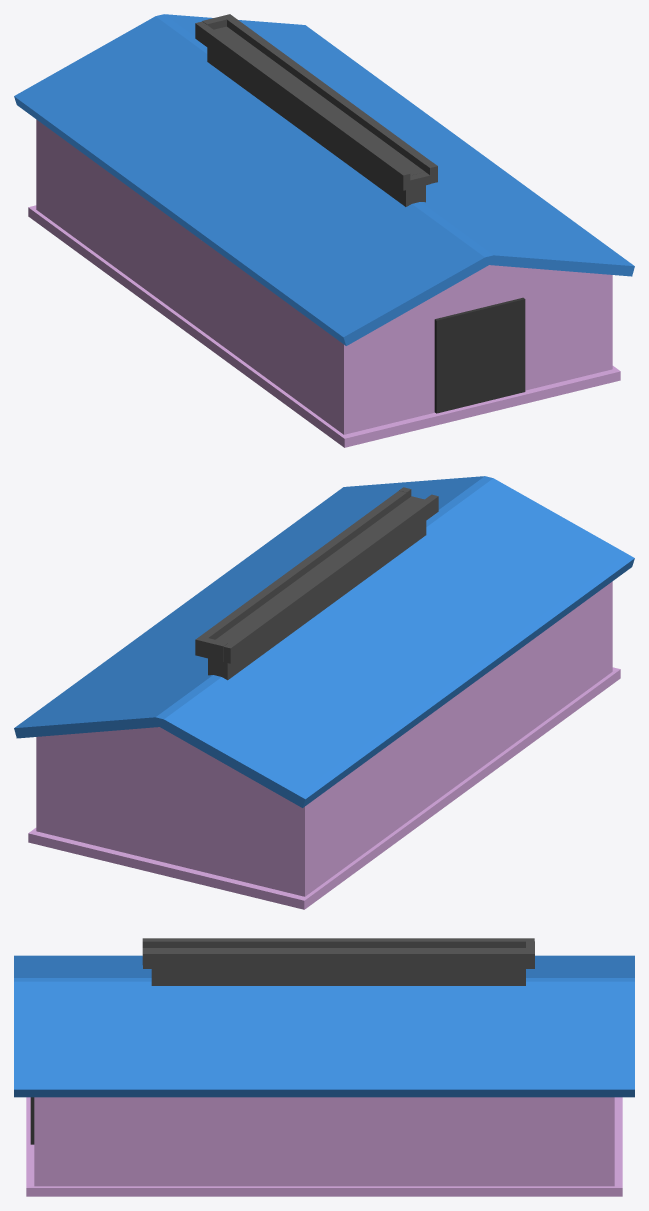
The model's file is factory1.glb.
3 views of the same model, one above another, from view 1: azimuth 30°, elevation 25°; view 2: azimuth 150°, elevation 25°; view 3: azimuth 270°, elevation 25° (orthographic). The views are drawn at different scales.
Visible parts, largest first — view 1: Roof, Куб, Куб.001, Door.001; view 2: Roof, Куб, Куб.001; view 3: Roof, Куб, Куб.001.
Boxes of the visible parts, x1,y1,x2,y2 form: Roof: [14, 14, 634, 345]; Куб: [28, 119, 620, 447]; Куб.001: [195, 14, 437, 206]; Door.001: [434, 297, 525, 413]; Roof: [14, 476, 634, 807]; Куб: [28, 581, 620, 909]; Куб.001: [195, 487, 438, 680]; Roof: [14, 955, 634, 1097]; Куб: [26, 1097, 622, 1196]; Куб.001: [142, 938, 534, 985].
Size of the model in its own units: 6.57 by 4.28 by 12.87.
